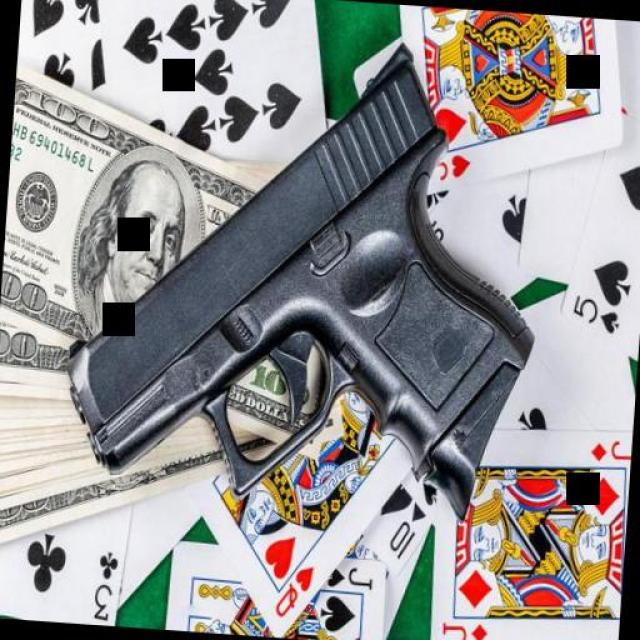gun: (56, 19, 558, 532)
